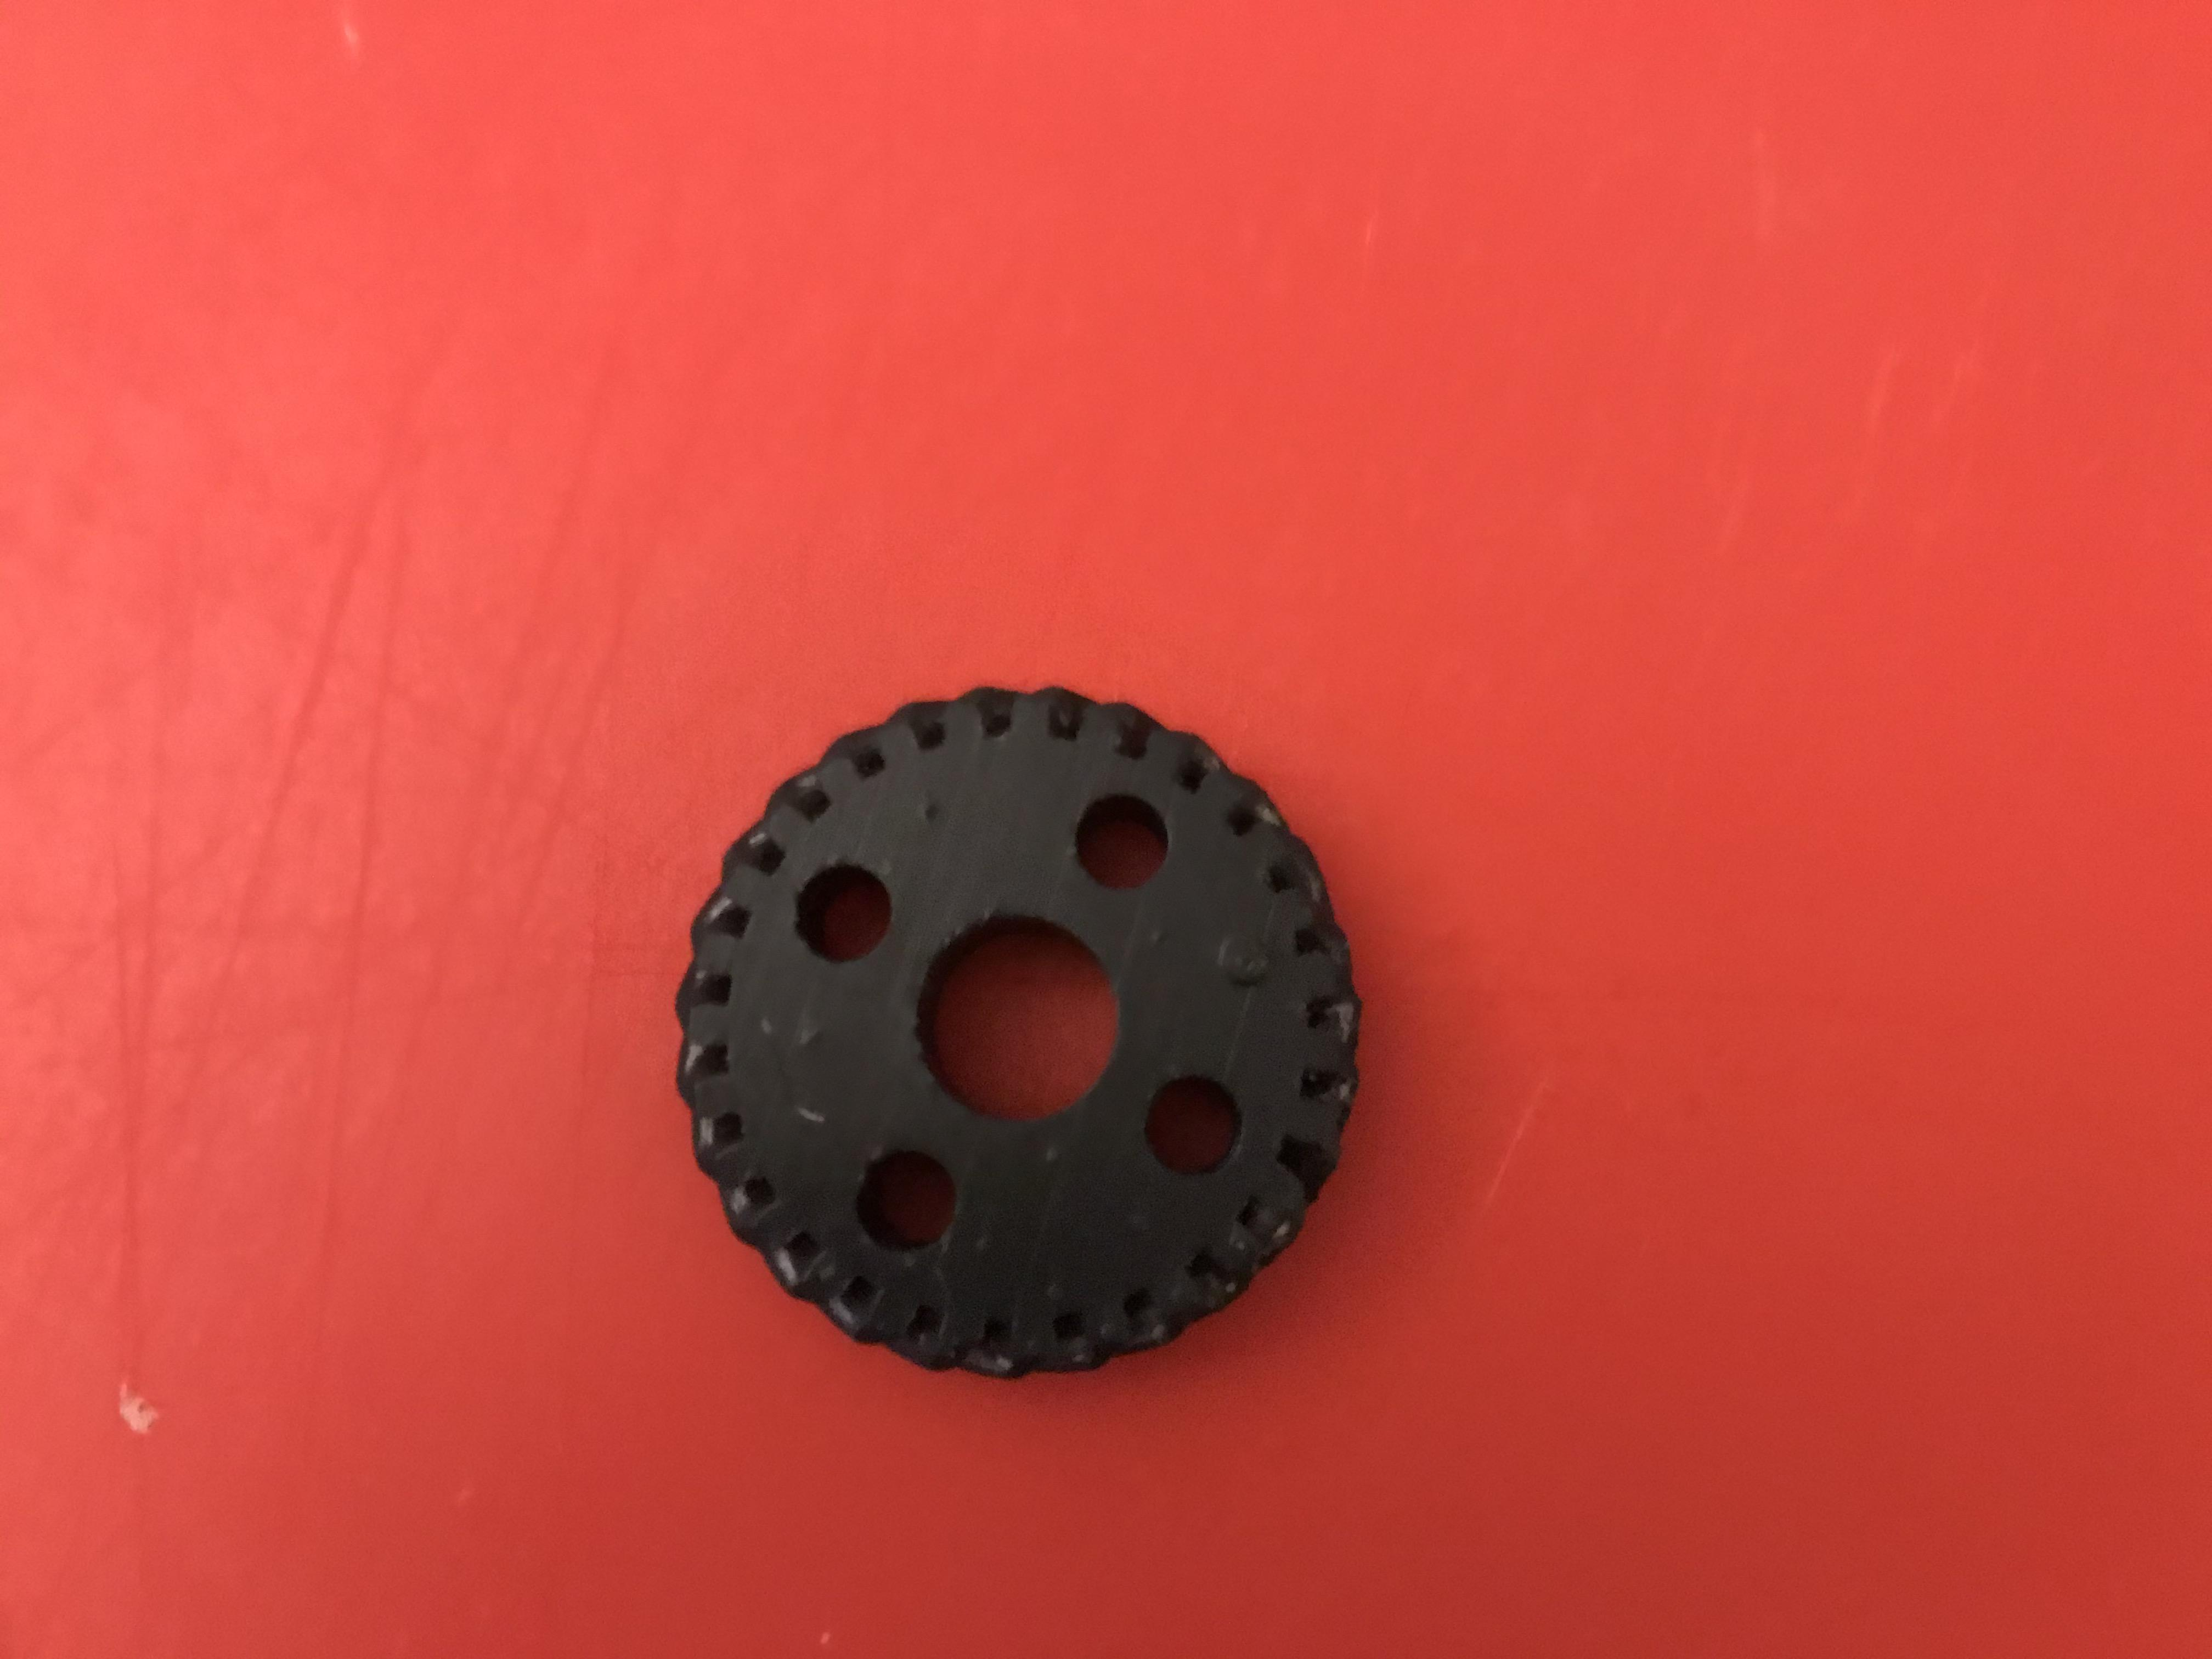Wheel: (672, 669, 1367, 1392)
